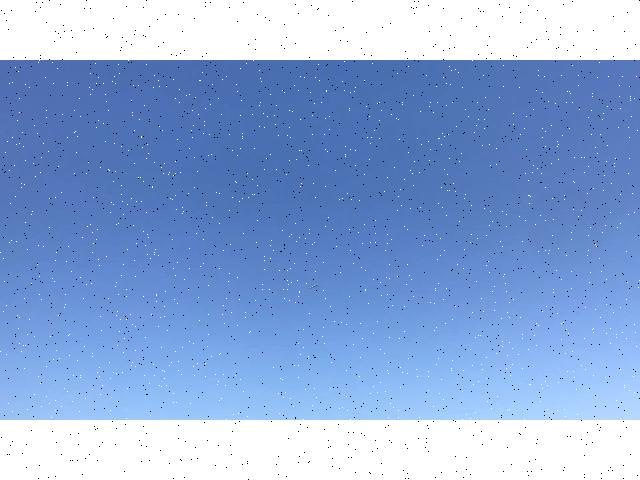Anti-Drone: (303, 274, 325, 290)
